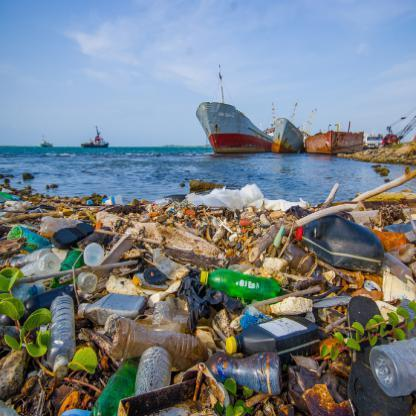Plastic: (109, 312, 204, 367), (201, 266, 284, 302), (370, 336, 415, 398), (211, 354, 281, 387), (49, 293, 78, 368), (137, 348, 178, 398)
